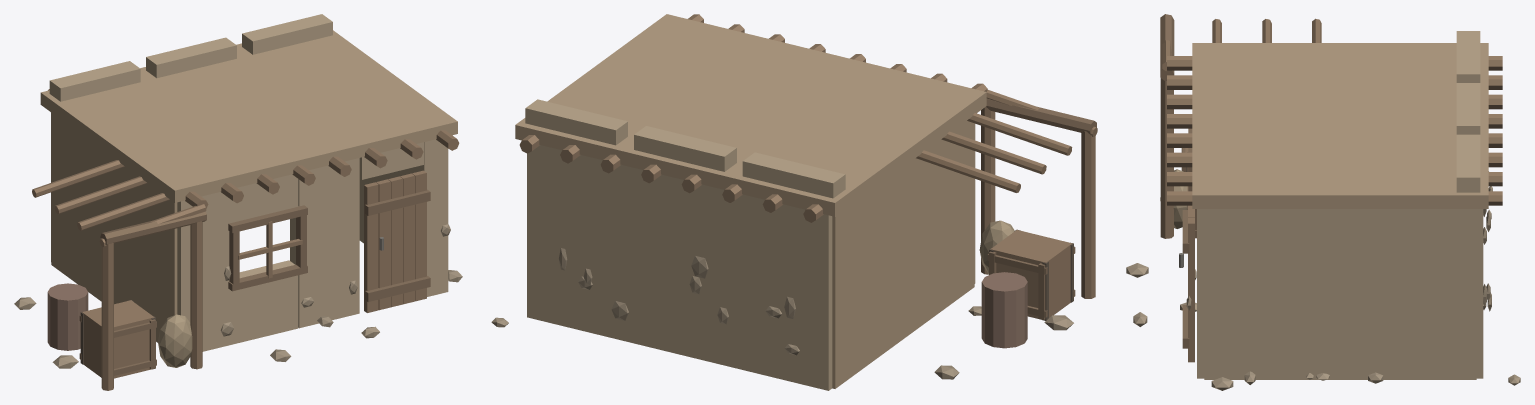
Rendered from desert_hut.glb.
3 renders of one model, left to right at view 1: azimuth 30°, elevation 25°; view 2: azimuth 150°, elevation 25°; view 3: azimuth 270°, elevation 25°, orthographic. The views are drawn at different scales.
Parts seen in each view (by area): view 1: roof_slab, wall_left, front_mid, front_left, front_below_window, front_right, crate_body, rusty_drum, roof_parapet_0, roof_parapet_1, roof_parapet_2, front_above_window (+22 smaller); view 2: wall_back, roof_slab, wall_left, crate_body, rusty_drum, roof_parapet_0, roof_parapet_1, roof_parapet_2, porch_post_-4.12, porch_front_rail, porch_post_-2.46, porch_rafter_0 (+3 smaller); view 3: wall_right, roof_slab, porch_post_-2.46, roof_parapet_2, wall_back, front_right, roof_parapet_0, roof_parapet_1, door_plank_4, roof_log_02, roof_log_05, porch_front_rail (+7 smaller).
Boxes of the visible parts, x1,y1,x2,y2 form: roof_slab: (40, 30, 457, 202); wall_left: (51, 113, 177, 342); front_mid: (290, 158, 359, 328); front_left: (177, 192, 234, 351); front_below_window: (234, 260, 298, 343); front_right: (415, 139, 448, 296); crate_body: (82, 300, 154, 378); rusty_drum: (47, 283, 88, 350); roof_parapet_0: (49, 61, 140, 101); roof_parapet_1: (146, 37, 236, 78); roof_parapet_2: (242, 14, 332, 54); front_above_window: (234, 174, 298, 222); wall_back: (527, 145, 832, 390); roof_slab: (515, 14, 986, 216); wall_left: (832, 120, 974, 388); crate_body: (990, 230, 1072, 319); rusty_drum: (981, 272, 1027, 348); roof_parapet_0: (742, 152, 845, 198); roof_parapet_1: (634, 126, 736, 171); roof_parapet_2: (525, 99, 627, 145); porch_post_-4.12: (1081, 131, 1095, 298); porch_front_rail: (986, 98, 1096, 134); porch_post_-2.46: (981, 107, 995, 274); porch_rafter_0: (916, 150, 1020, 192); wall_right: (1204, 209, 1476, 379); roof_slab: (1192, 43, 1488, 208); porch_post_-2.46: (1160, 78, 1173, 238); roof_parapet_2: (1456, 134, 1480, 192); wall_back: (1476, 209, 1483, 378); front_right: (1197, 209, 1204, 378); roof_parapet_0: (1456, 31, 1480, 82); roof_parapet_1: (1456, 83, 1480, 134); door_plank_4: (1188, 217, 1194, 362); roof_log_02: (1167, 94, 1502, 109); roof_log_05: (1167, 152, 1502, 167); porch_front_rail: (1160, 14, 1174, 81).
Size of the model in its own units: 7.4 by 3.31 by 5.79.
